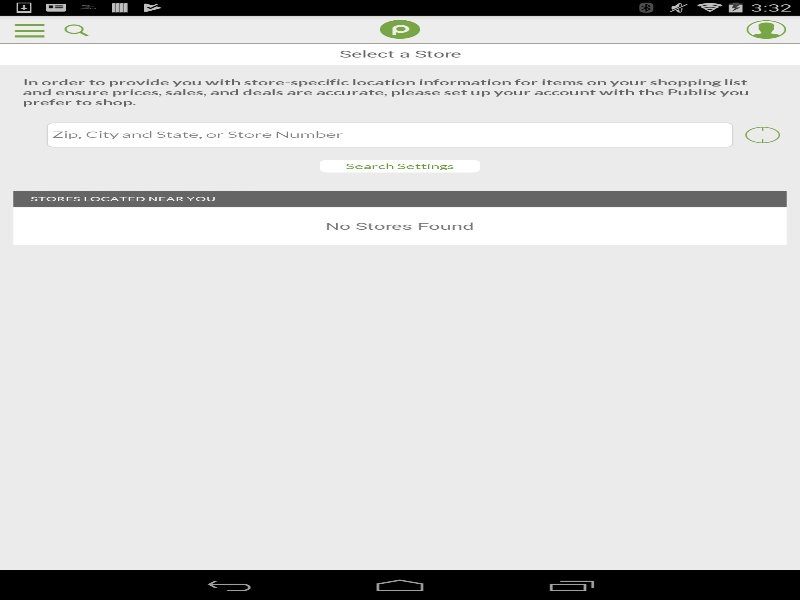Button: (266, 343, 533, 355), (320, 160, 480, 172), (745, 126, 780, 143)
Input: (46, 122, 733, 147)
